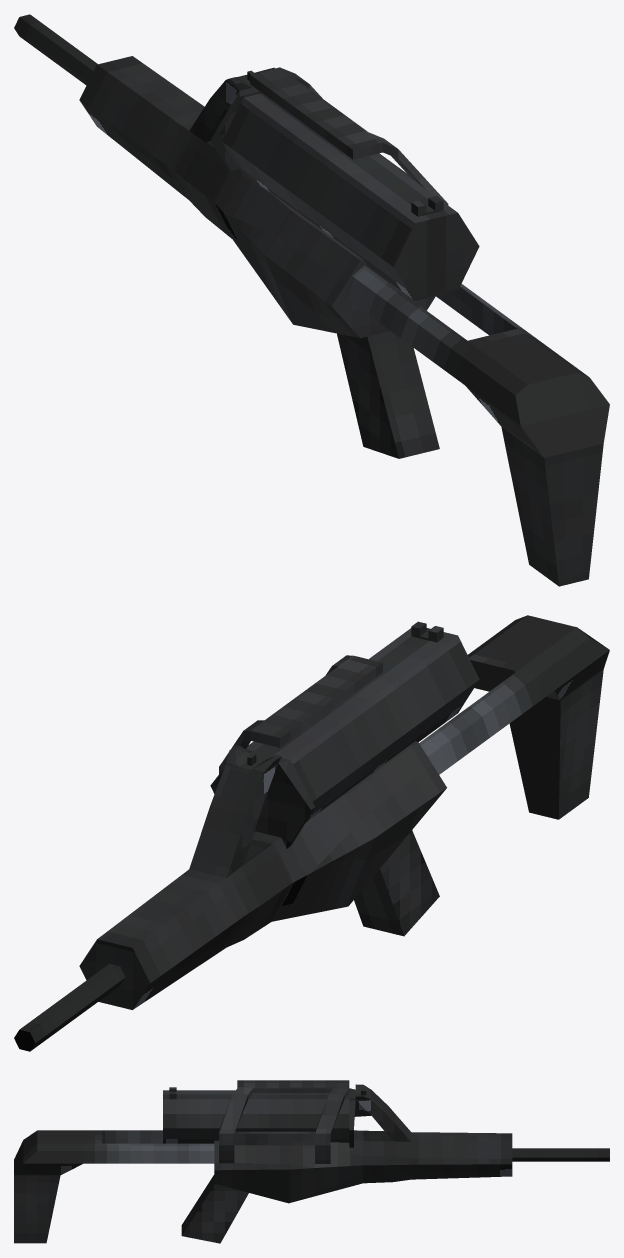
Rendered from manx.gltf.
3 renders of one model, top to bottom at view 1: azimuth 30°, elevation 25°; view 2: azimuth 150°, elevation 25°; view 3: azimuth 270°, elevation 25°, orthographic. The views are drawn at different scales.
Parts seen in each view (by area): view 1: stock, reciever, magazine, grip, optics_rail, barrel; view 2: reciever, stock, magazine, grip, optics_rail, barrel; view 3: reciever, stock, magazine, optics_rail, grip, barrel.
Part boxes in pixels (x1=…): stock: x1=345, y1=265, x2=609, y2=586; reciever: x1=79, y1=56, x2=435, y2=338; magazine: x1=222, y1=93, x2=479, y2=300; grip: x1=337, y1=331, x2=439, y2=458; optics_rail: x1=250, y1=67, x2=448, y2=205; barrel: x1=14, y1=14, x2=97, y2=85; reciever: x1=79, y1=741, x2=446, y2=1009; stock: x1=419, y1=615, x2=609, y2=819; magazine: x1=246, y1=621, x2=479, y2=822; grip: x1=354, y1=830, x2=439, y2=936; optics_rail: x1=219, y1=655, x2=382, y2=773; barrel: x1=14, y1=963, x2=125, y2=1051; reciever: x1=214, y1=1084, x2=512, y2=1203; stock: x1=14, y1=1130, x2=214, y2=1243; magazine: x1=163, y1=1087, x2=349, y2=1143; optics_rail: x1=219, y1=1080, x2=349, y2=1163; grip: x1=181, y1=1175, x2=248, y2=1243; barrel: x1=512, y1=1148, x2=609, y2=1161.
Size of the model in its own units: 0.1017 by 0.2297 by 0.8.
Materials: 6 (6 with a texture image).
